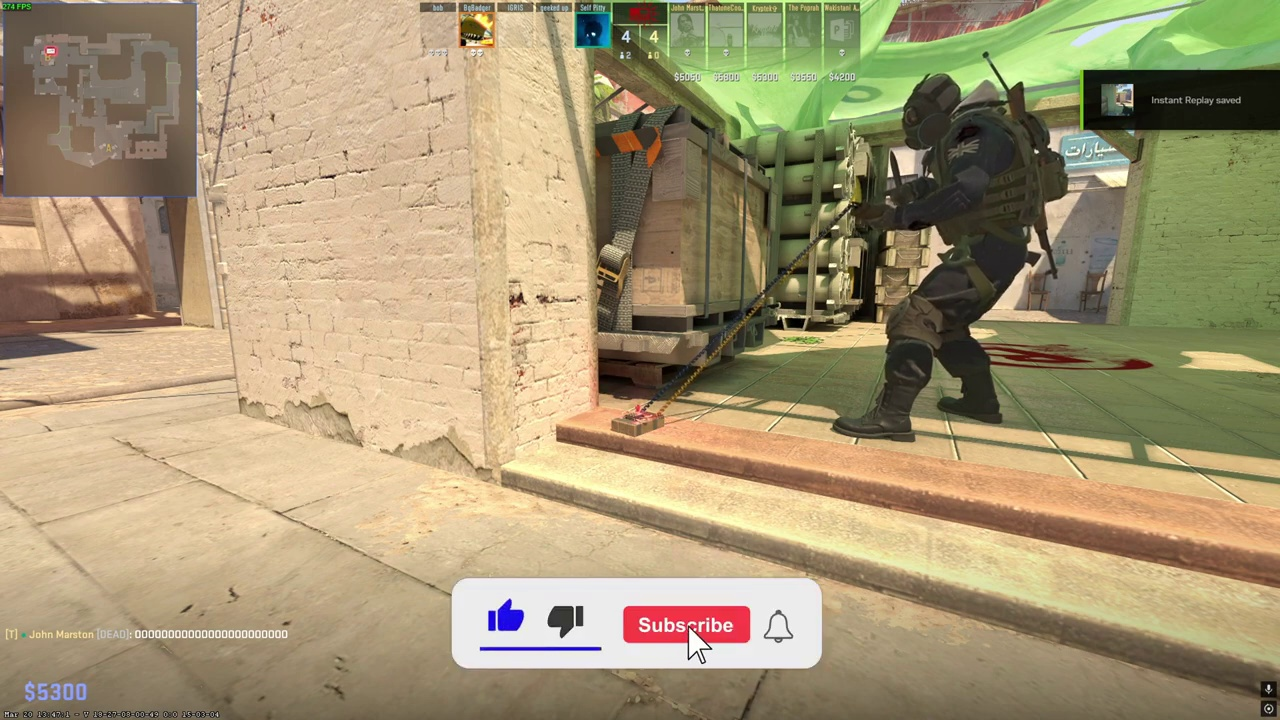CT: (850, 73, 1044, 442)
